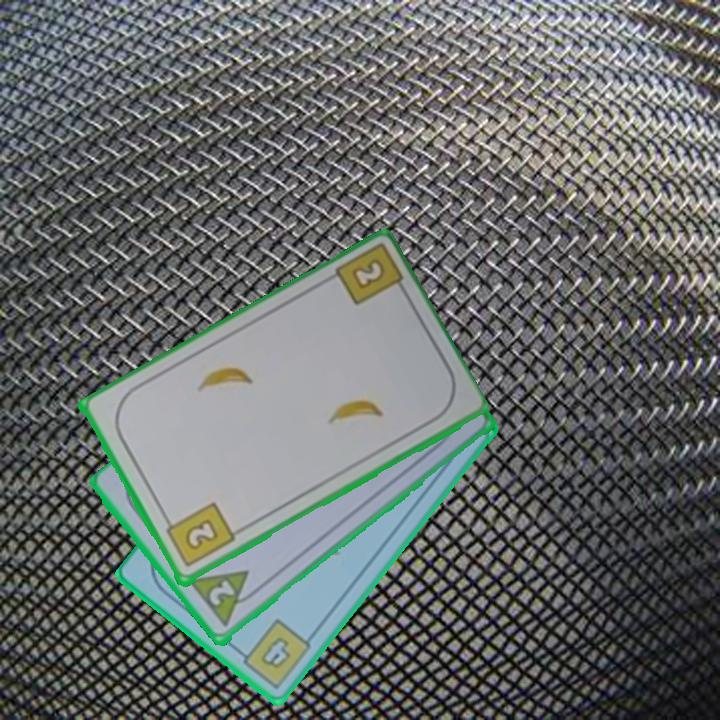2b: (160, 499, 238, 571), (347, 259, 385, 293)
2p: (185, 566, 265, 631)
4b: (232, 615, 315, 693)
